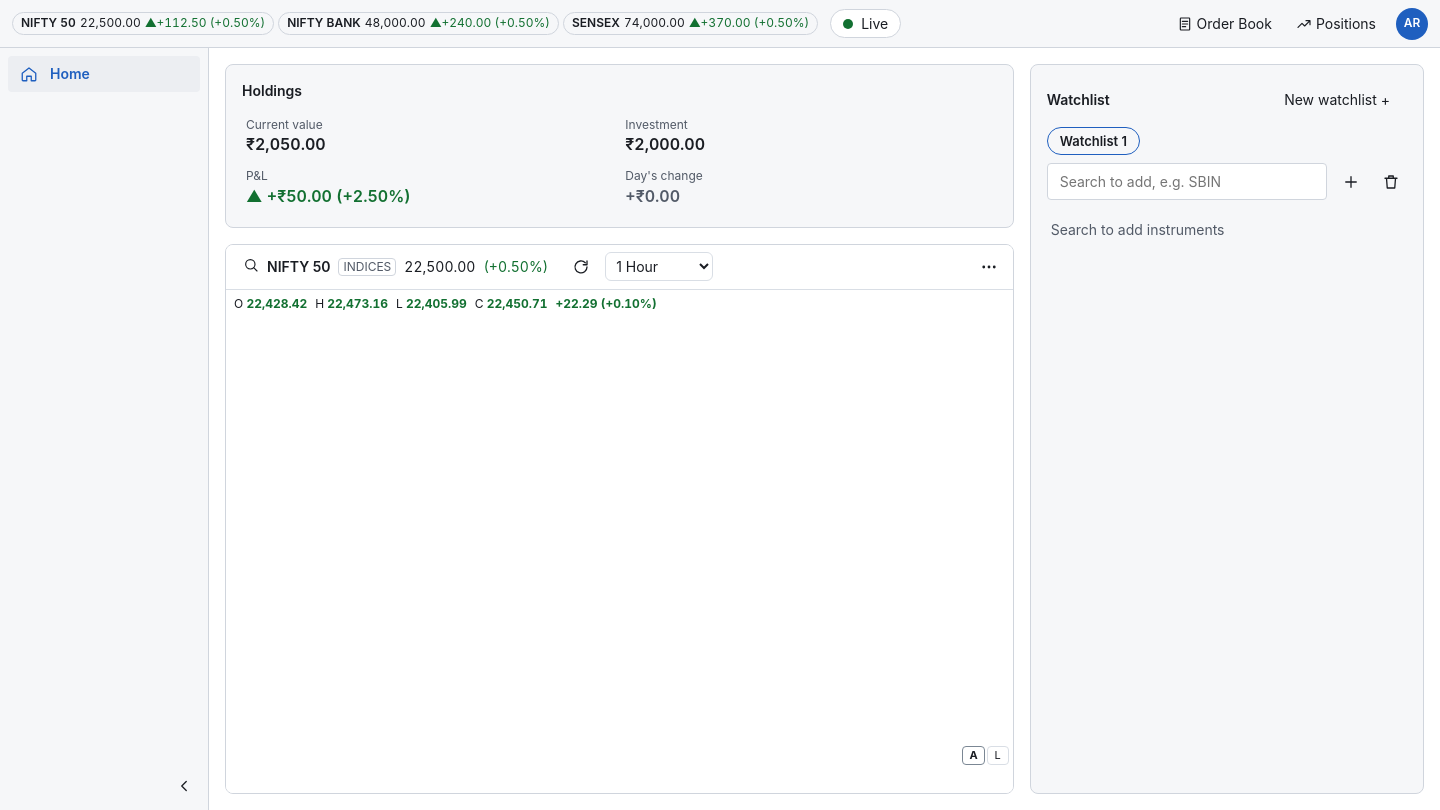
Test: FR-SHELL-010 profile menu › AC1: shows the name and client ID from the profile
Click the button named "Account menu" at (1412, 24), box [1396,8,1428,40]
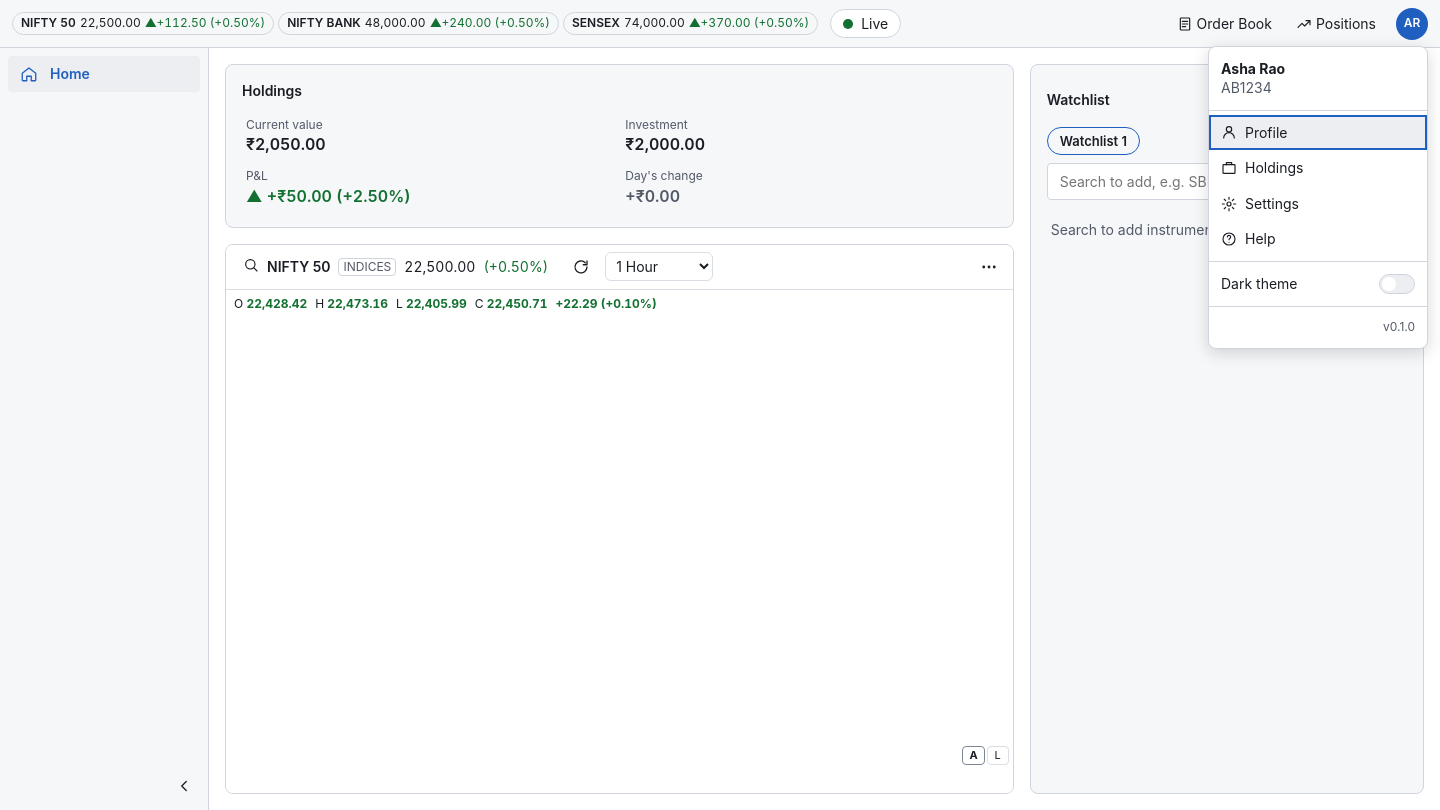
Expected: the text "Asha Rao" is shown, [1221,60,1285,76]
Expected: the text "AB1234" is shown, [1221,79,1272,96]
Expected: the menu items read "Profile", "Holdings", "Settings", "Help", in this order, [1209,115,1427,150]; [1209,150,1427,186]; [1209,186,1427,222]; [1209,222,1427,257]
